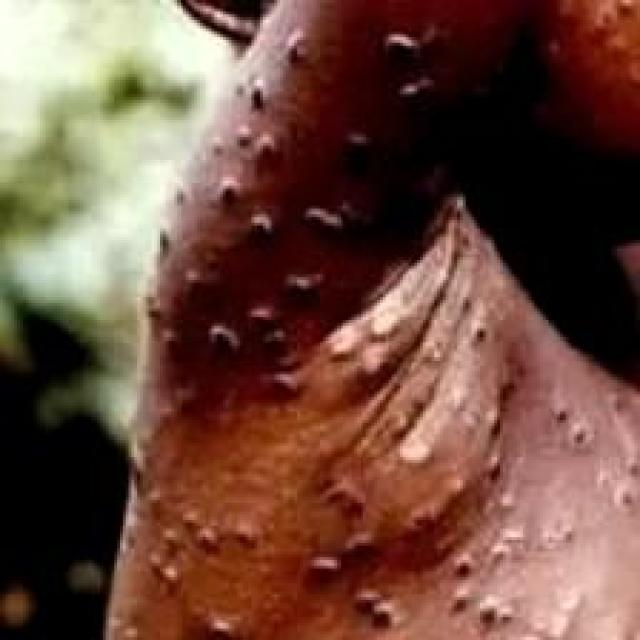monkeypox: (128, 0, 627, 640)
